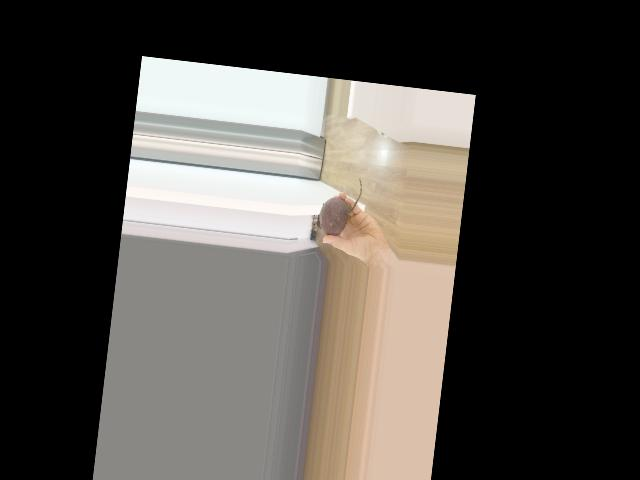beet: (315, 173, 363, 238)
